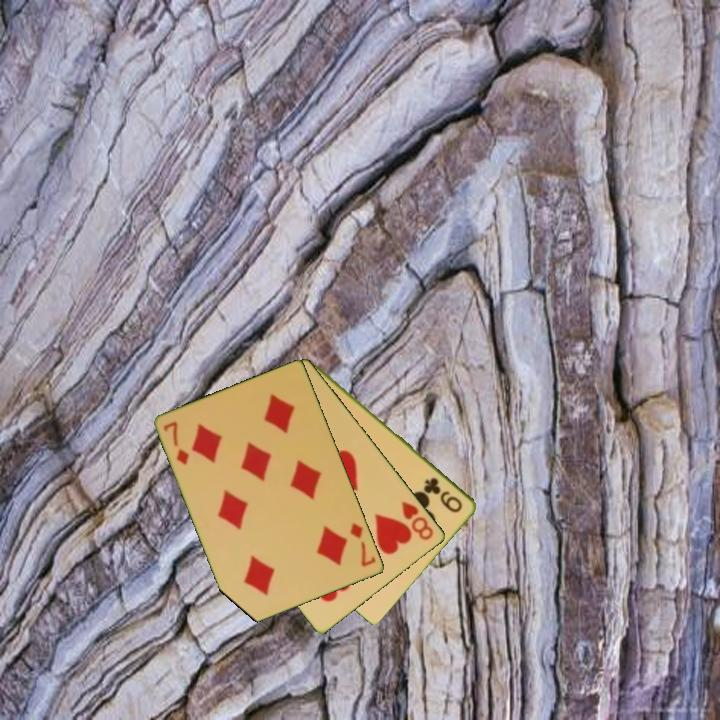7d: (347, 519, 379, 570), (160, 418, 192, 468)
8h: (398, 497, 437, 543)
9c: (421, 474, 466, 516)
